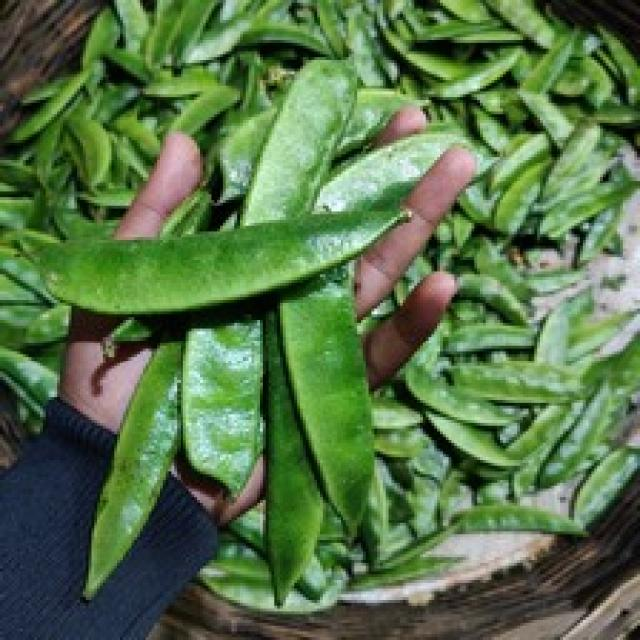Bean: (0, 0, 637, 609)
